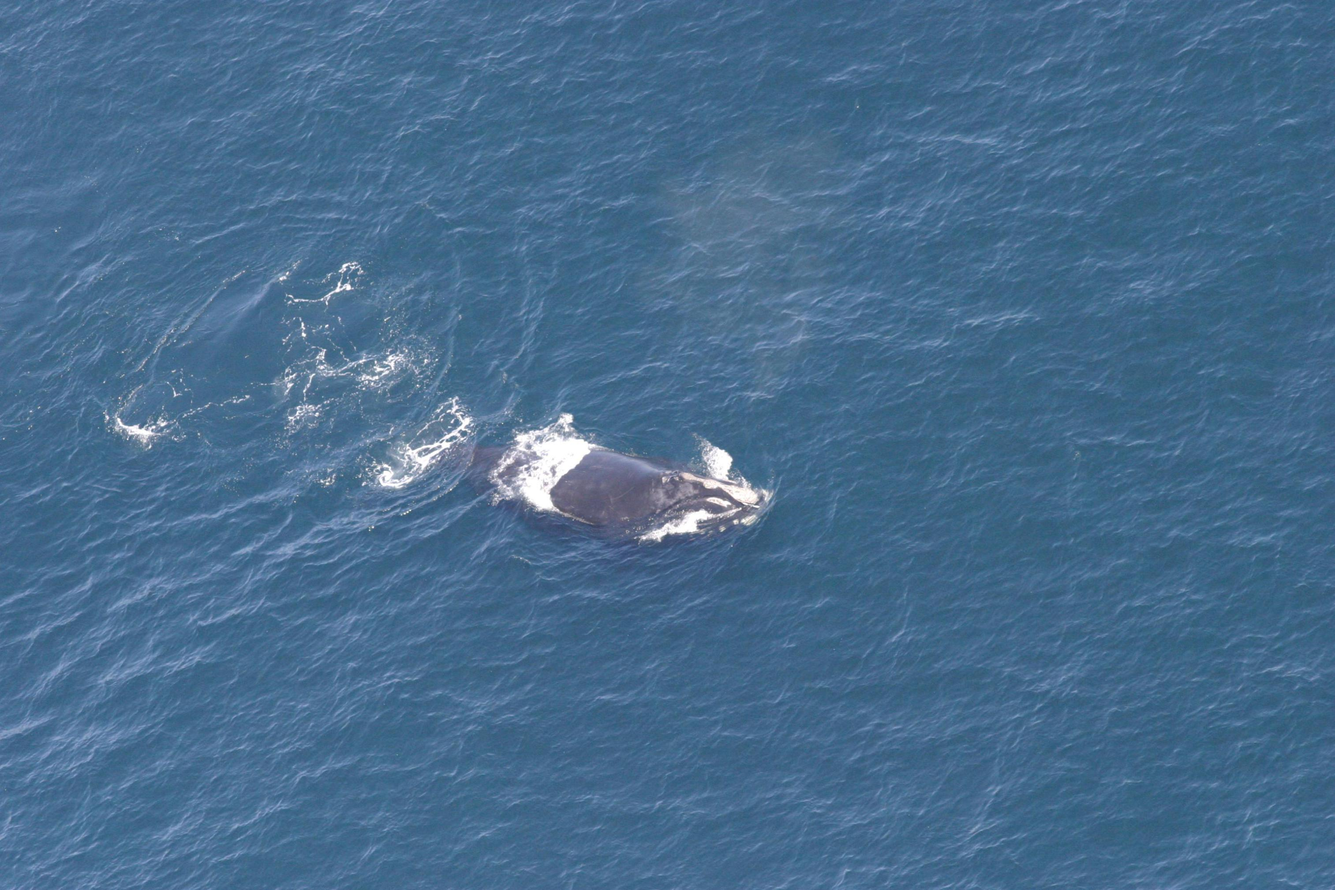whale: (395, 413, 788, 560)
